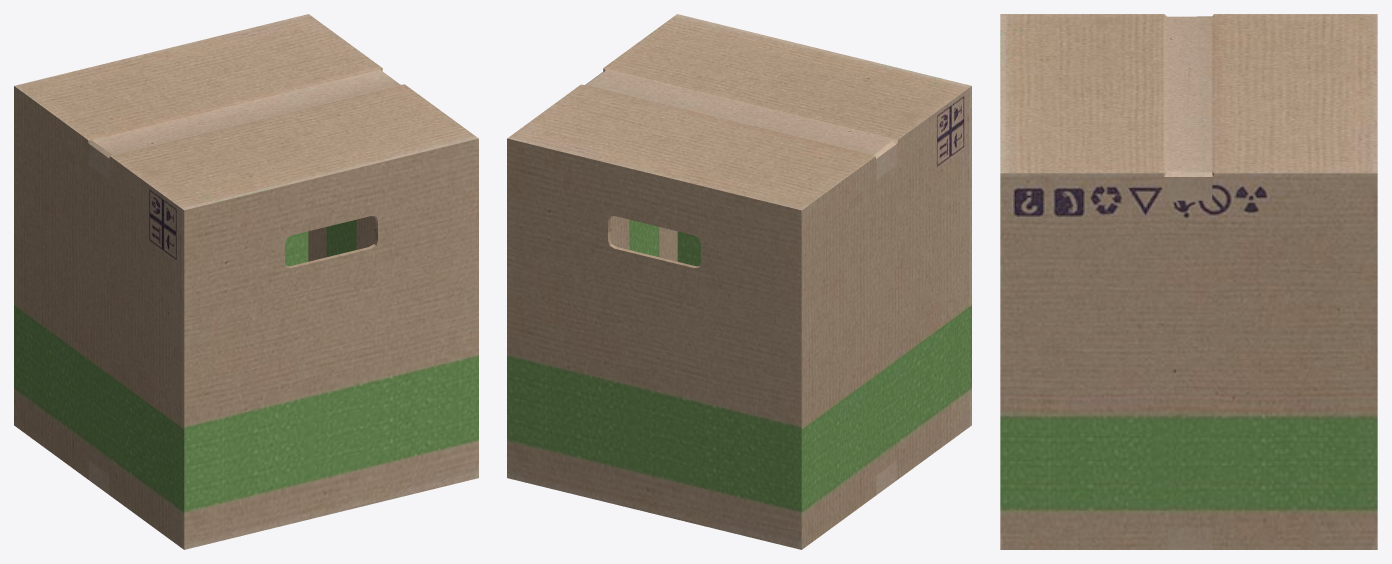
File: xiangzi.FBX
3 views of the same model, side by side, from view 1: azimuth 30°, elevation 25°; view 2: azimuth 150°, elevation 25°; view 3: azimuth 270°, elevation 25° (orthographic). The views are drawn at different scales.
Visible parts, largest first — view 1: xiangzi; view 2: xiangzi; view 3: xiangzi.
Boxes of the visible parts, <box> form: xiangzi: <box>14,14,478,549</box>; xiangzi: <box>507,14,971,549</box>; xiangzi: <box>1000,14,1377,549</box>.
Bounding box in the file's own units: 227 × 250 × 227.
